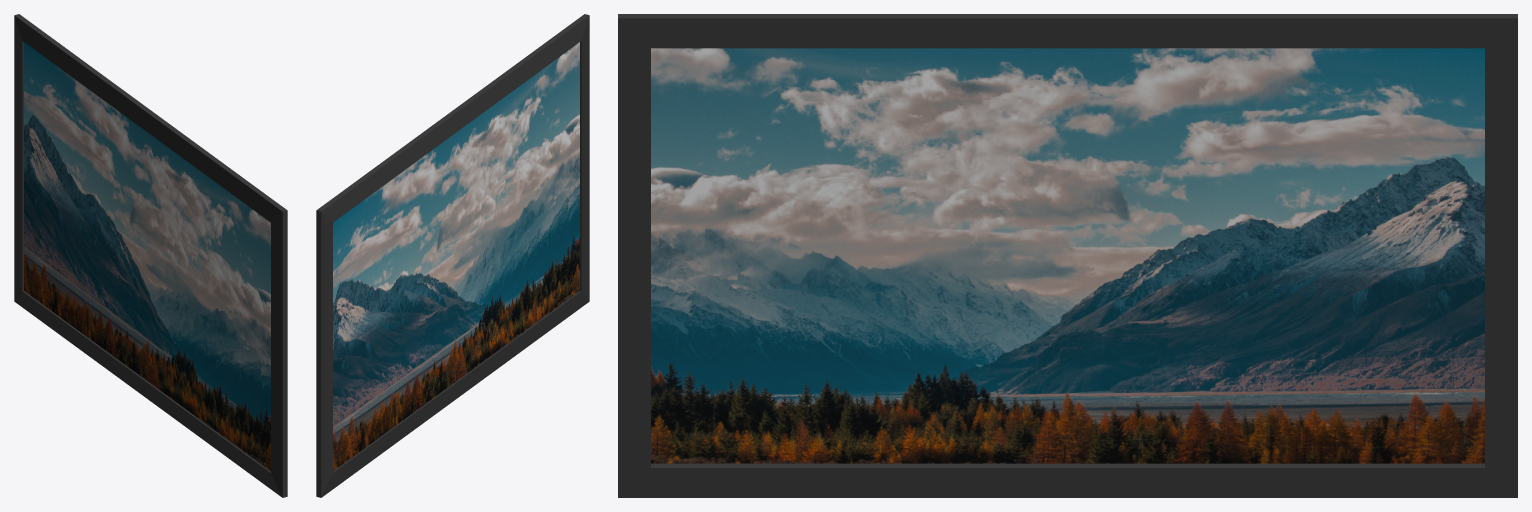
File: Painting_Mountains_Landscape3.fbx
3 views of the same model, side by side, from view 1: azimuth 30°, elevation 25°; view 2: azimuth 150°, elevation 25°; view 3: azimuth 270°, elevation 25° (orthographic). The views are drawn at different scales.
Visible parts, largest first — view 1: mountains_landscape3, PaintingFrame1; view 2: mountains_landscape3, PaintingFrame1; view 3: mountains_landscape3, PaintingFrame1.
Boxes of the visible parts, x1,y1,x2,y2 form: mountains_landscape3: (24, 42, 270, 471); PaintingFrame1: (14, 14, 287, 497); mountains_landscape3: (333, 42, 579, 471); PaintingFrame1: (316, 14, 589, 497); mountains_landscape3: (651, 48, 1484, 463); PaintingFrame1: (618, 14, 1517, 497).
Size of the model in its own units: 4 by 160 by 272.
